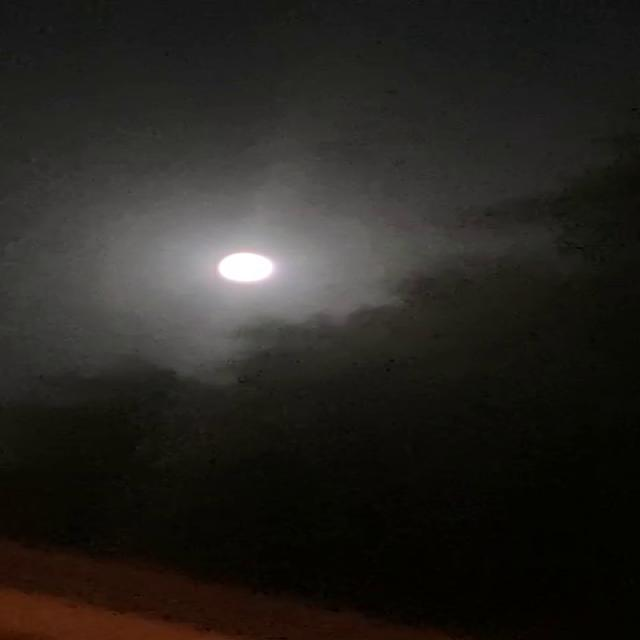moon: (192, 250, 276, 294)
